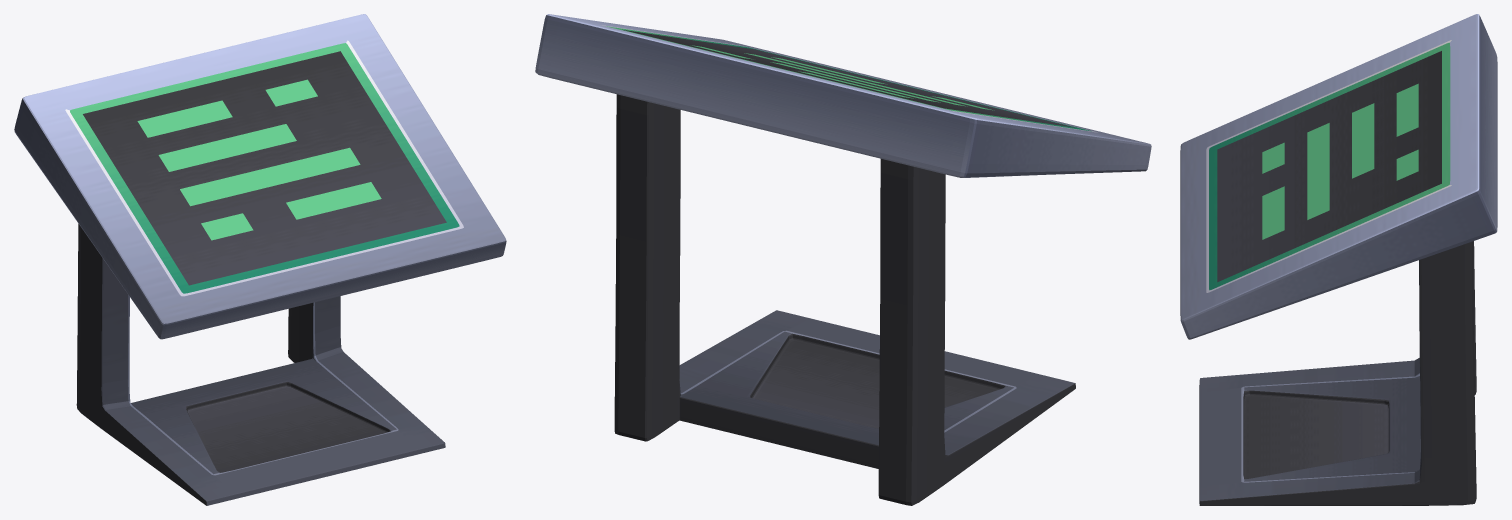
Rendered from screen.fbx.
3 renders of one model, left to right at view 1: azimuth 30°, elevation 25°; view 2: azimuth 150°, elevation 25°; view 3: azimuth 270°, elevation 25°, orthographic. The views are drawn at different scales.
Visible parts, largest first — view 1: Cube.001; view 2: Cube.001; view 3: Cube.001.
Boxes of the visible parts, left/top/right/bottom form: Cube.001: left=14, top=14, right=506, bottom=505; Cube.001: left=535, top=14, right=1151, bottom=505; Cube.001: left=1180, top=14, right=1497, bottom=505.
Size of the model in its own units: 522 by 470 by 394.
